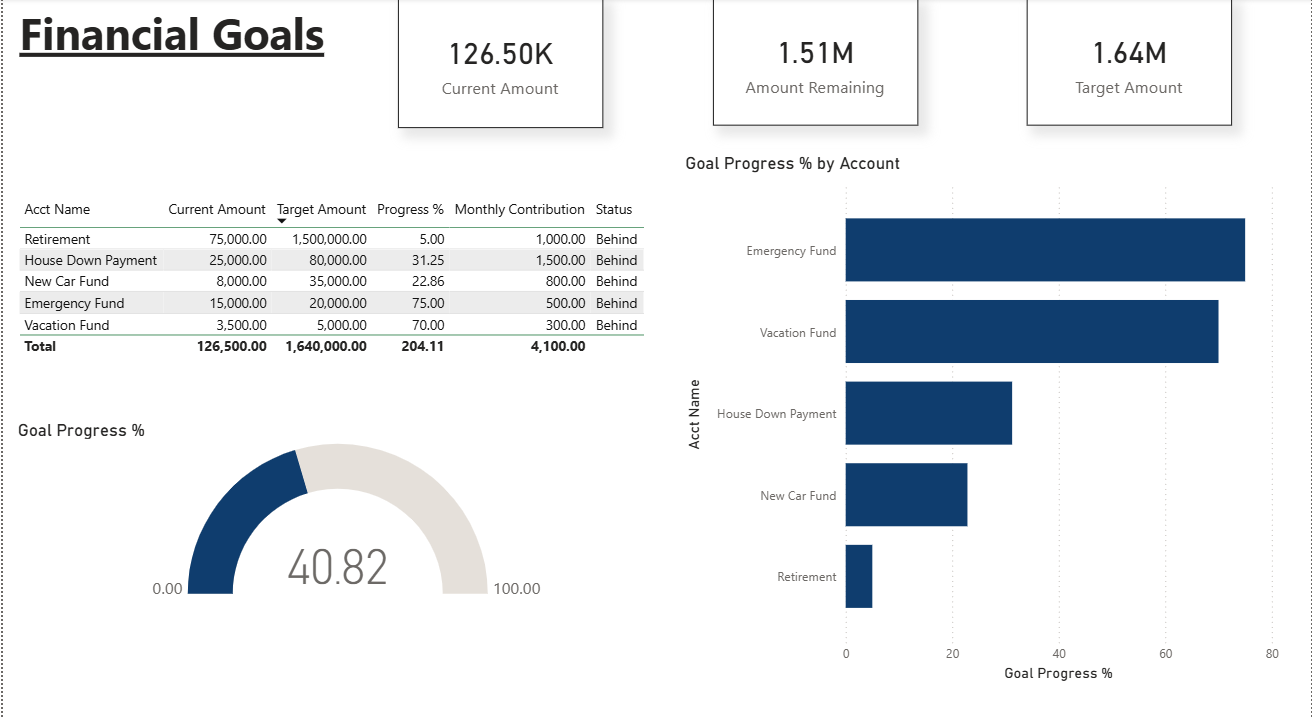

What the dashboard file says about the page in this screenshot:
{"tool":"powerbi","page":{"name":"Goal Tracking","canvas":[1280,720],"ordinal":2},"visuals":[{"type":"textbox","box":[10.4,0,342,75.8],"z":0},{"type":"tableEx","fields":{"Values":["v_goal_progress.goal_name","Sum(v_goal_progress.current_amount)","Sum(v_goal_progress.target_amount)","Sum(v_goal_progress.progress_pct)","Sum(v_goal_progress.monthly_contribution)","v_goal_progress.status_indicator"]},"box":[9.8,190.8,653,181],"z":1000},{"type":"gauge","fields":{"Y":["_Measures.Goal Progress Pct"]},"box":[9.8,412.1,653,181],"z":2000},{"type":"clusteredBarChart","title":"Goal Progress % by Account","fields":{"Y":["_Measures.Goal Progress Pct"],"Category":["v_goal_progress.goal_name"]},"box":[662.8,151.6,590.6,522.1],"z":3000},{"type":"card","fields":{"Values":["_Measures.Amount Remaining"]},"box":[694.6,0,200.5,124.7],"z":4000},{"type":"card","fields":{"Values":["Sum(v_goal_progress.current_amount)"]},"box":[386.4,0,200.5,127.2],"z":5000},{"type":"card","fields":{"Values":["Sum(v_goal_progress.target_amount)"]},"box":[1001.5,0,200.5,124.7],"z":6000}]}

Visuals, with their boxes in screenshot pixels (x1, y1, x2, y2), scaled from the page's 1280x720 canvas onto the 1312x717 screenshot:
textbox: (11,0,361,75)
tableEx - v_goal_progress.goal_name x Sum(v_goal_progress.current_amount): (10,190,679,370)
gauge - _Measures.Goal Progress Pct: (10,410,679,591)
"Goal Progress % by Account" clusteredBarChart: (679,151,1285,671)
card - _Measures.Amount Remaining: (712,0,917,124)
card - Sum(v_goal_progress.current_amount): (396,0,602,127)
card - Sum(v_goal_progress.target_amount): (1027,0,1232,124)
